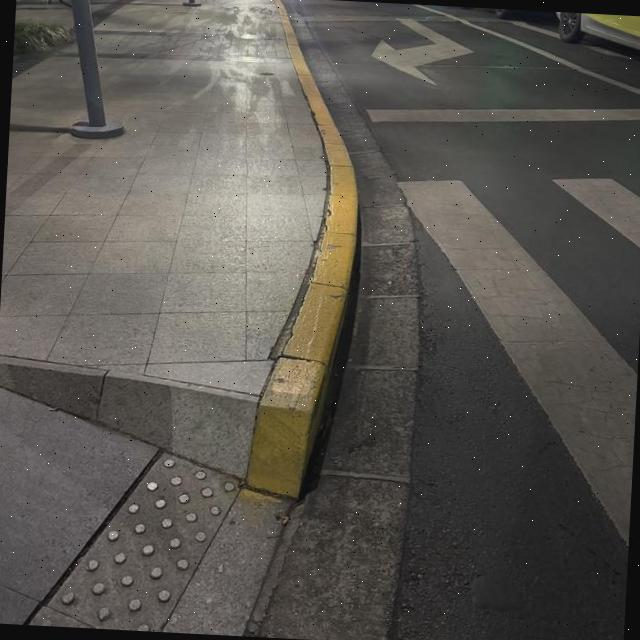curb: (244, 0, 358, 498)
